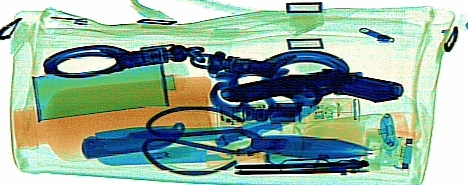handcuffs: (41, 40, 349, 96)
knife: (90, 140, 268, 166), (79, 119, 184, 159), (92, 122, 268, 145)
pressure: (289, 110, 420, 157)
scissors: (140, 102, 373, 175)
zippooil: (26, 51, 174, 122)
